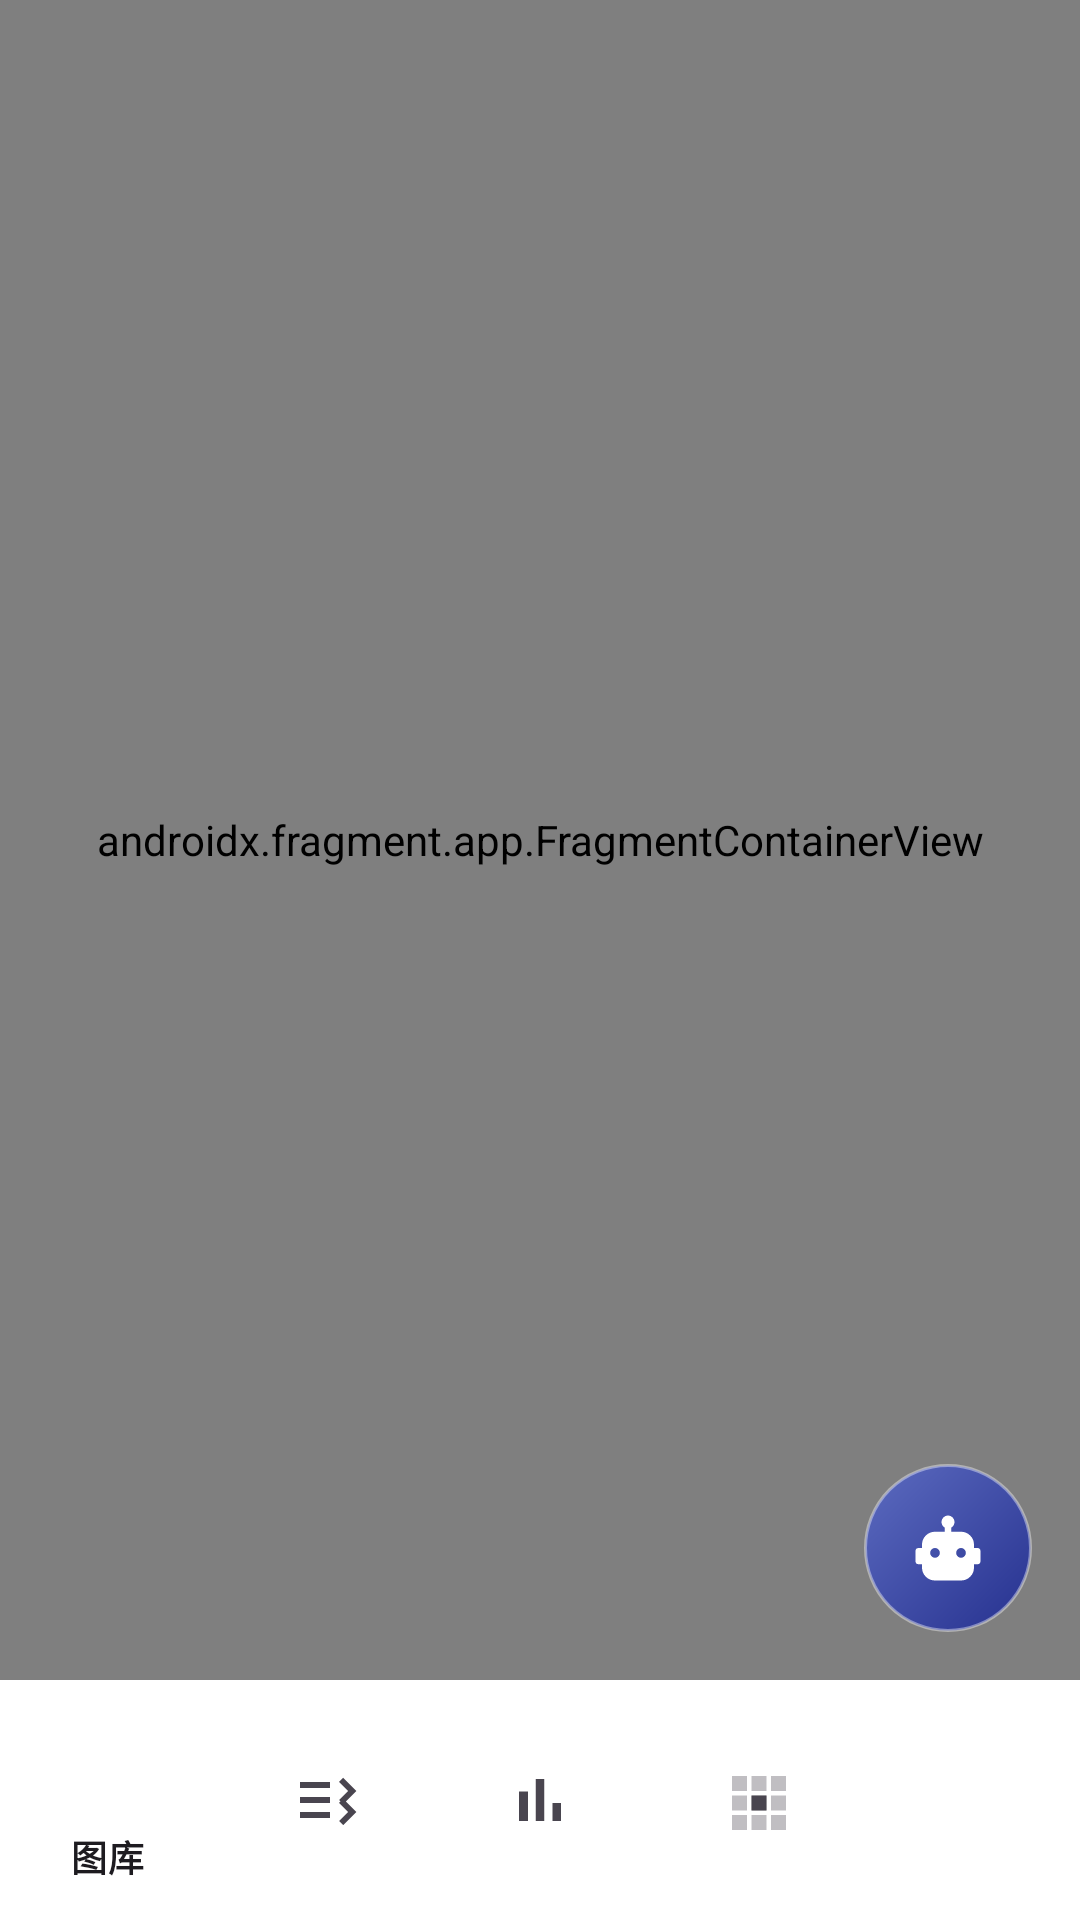

Named icons in this screenshot (1080w x 1920h) and their bounding boxes, Rect(x1, y1, x2, y2):
AI 助手浮窗: Rect(915, 1515, 981, 1581)
